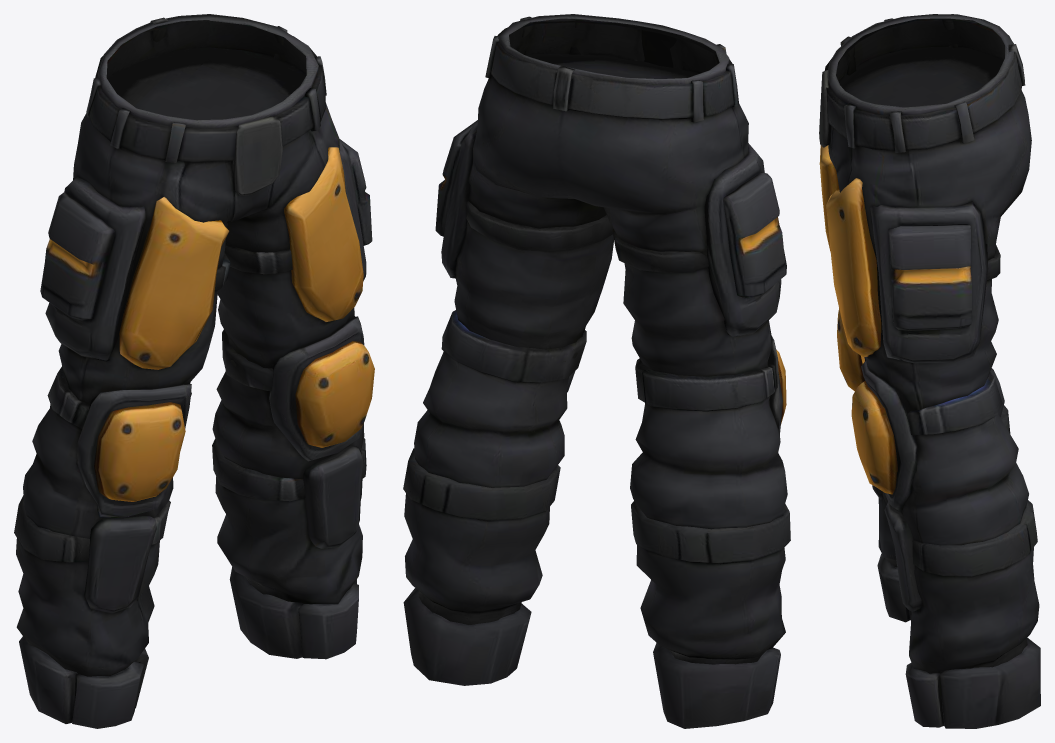
File: armored-legs.glb
The picture shows the model from 3 angles, left to right: view 1: azimuth 30°, elevation 25°; view 2: azimuth 150°, elevation 25°; view 3: azimuth 270°, elevation 25°; orthographic projection. The views are drawn at different scales.
Parts seen in each view (by area): view 1: armored-legs; view 2: armored-legs; view 3: armored-legs.
Boxes of the visible parts, box(x1,y1,x2,y2) form: armored-legs: box(14, 14, 374, 728); armored-legs: box(403, 14, 790, 728); armored-legs: box(819, 14, 1040, 728).
Bounding box in the file's own units: 0.5319 × 0.92 × 0.3017.
1 material, 1 textured.
